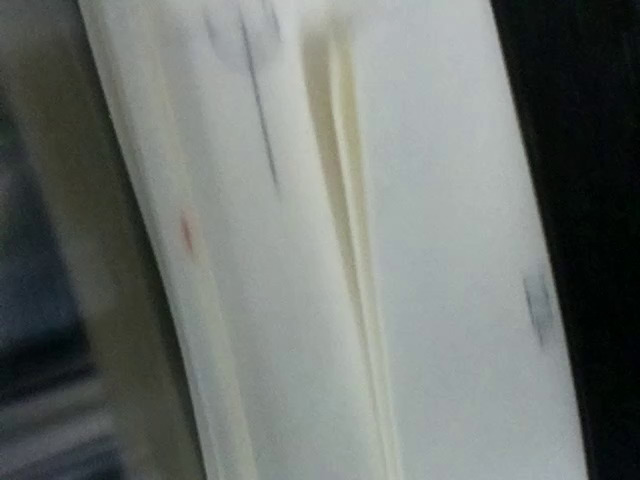not_sure: (194, 1, 290, 86)
